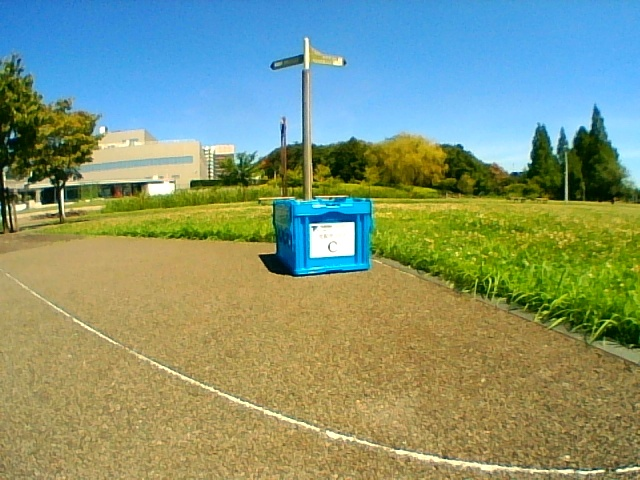blue_box: (275, 199, 369, 272)
tag_c: (312, 224, 353, 257)
